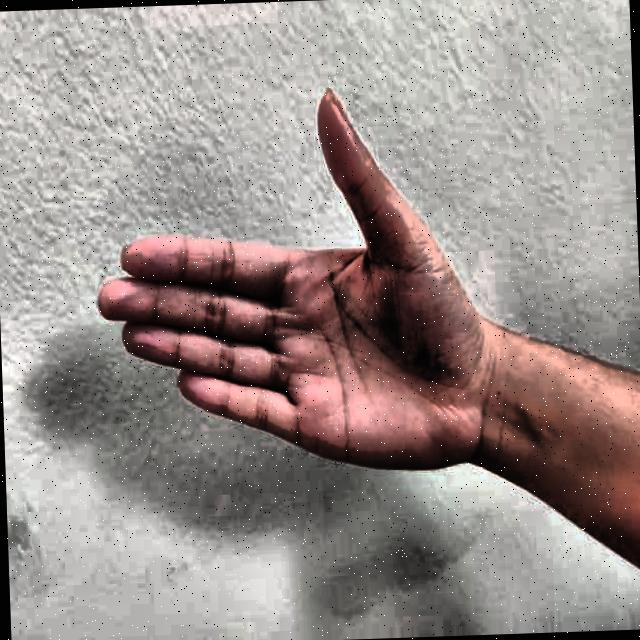Aa: (59, 68, 488, 518)
